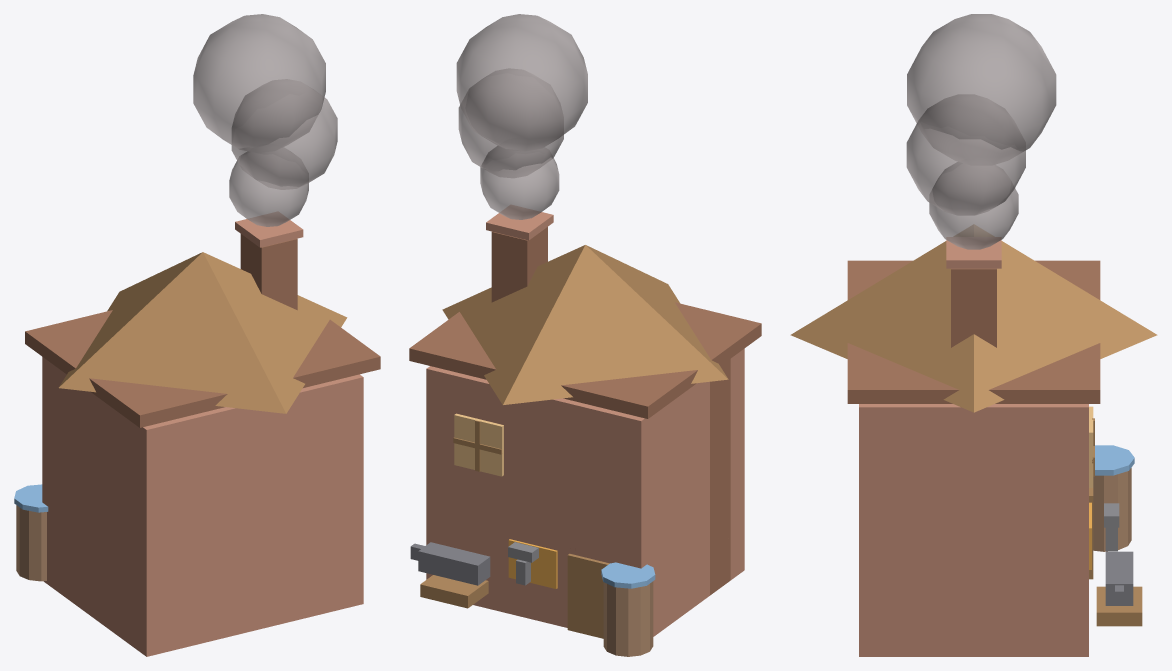
Rendered from forge.glb.
The picture shows the model from 3 angles, left to right: view 1: azimuth 30°, elevation 25°; view 2: azimuth 150°, elevation 25°; view 3: azimuth 270°, elevation 25°; orthographic projection. The views are drawn at different scales.
Visible parts, largest first — view 1: forge_root; view 2: forge_root; view 3: forge_root.
Part boxes in pixels (x1,y1,x2,y2): forge_root: (14,14,380,656); forge_root: (409,14,761,656); forge_root: (790,14,1157,656).
Bounding box in the file's own units: 2.45 × 4.5 × 2.45.
